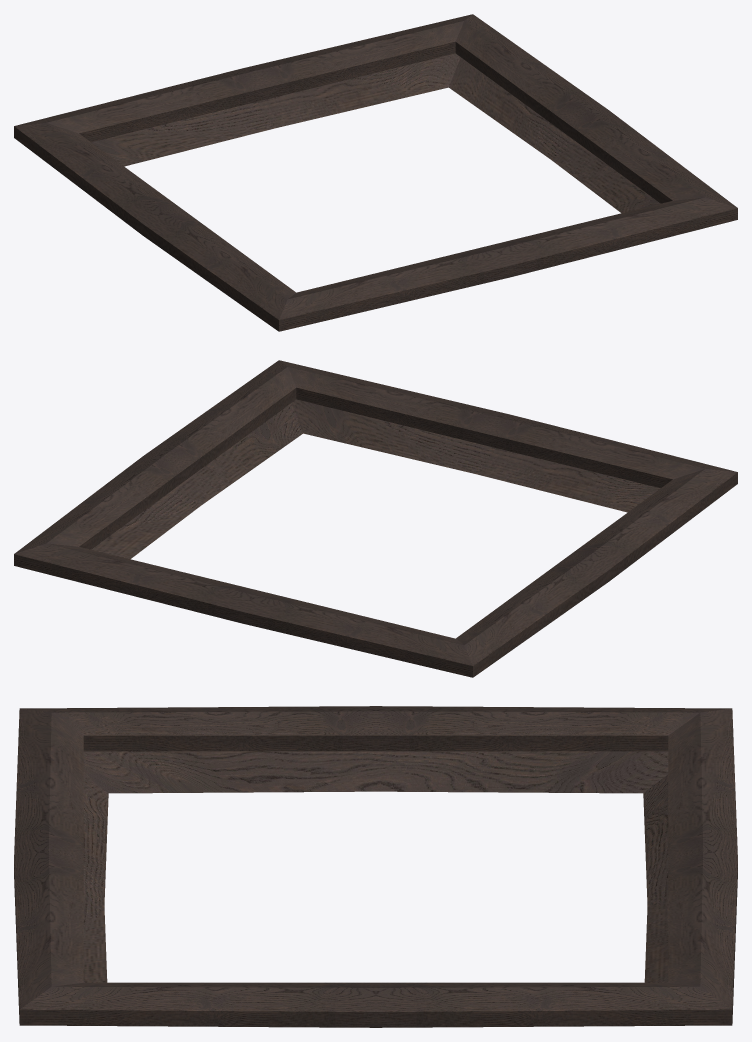
Rendered from border.FBX.
3 views of the same model, one above another, from view 1: azimuth 30°, elevation 25°; view 2: azimuth 150°, elevation 25°; view 3: azimuth 270°, elevation 25° (orthographic). The views are drawn at different scales.
Visible parts, largest first — view 1: Border; view 2: Border; view 3: Border.
Boxes of the visible parts, <box> form: Border: <box>14,14,737,331</box>; Border: <box>14,360,737,677</box>; Border: <box>14,706,737,1027</box>.
Bounding box in the file's own units: 1040 × 90 × 1040.
